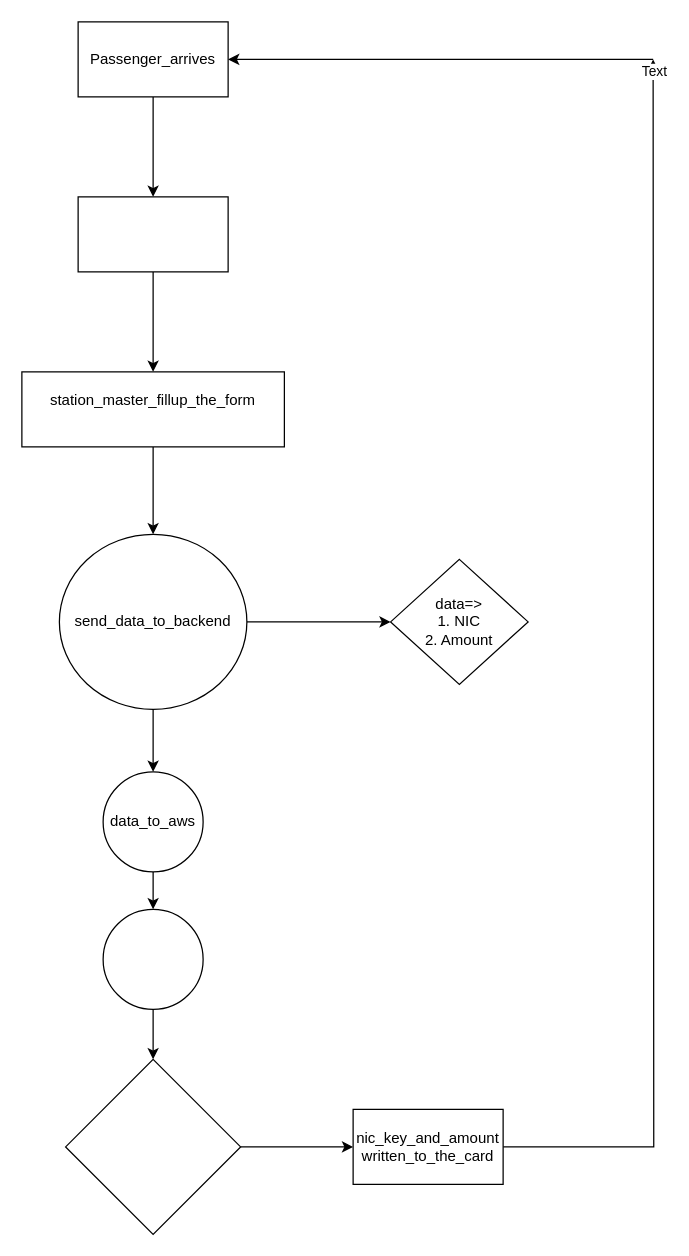
The diagram is 689 pixels wide and 1256 high, and some of its shapes have lost their labels. The shapes that lost their labels are listed below. From the top down, each one's centre as x and y in pixels, then its label:
At (152,234): "reveal_his_identity".
At (152,958): "esp32_get_nic".
At (152,1146): "make_the_key".
